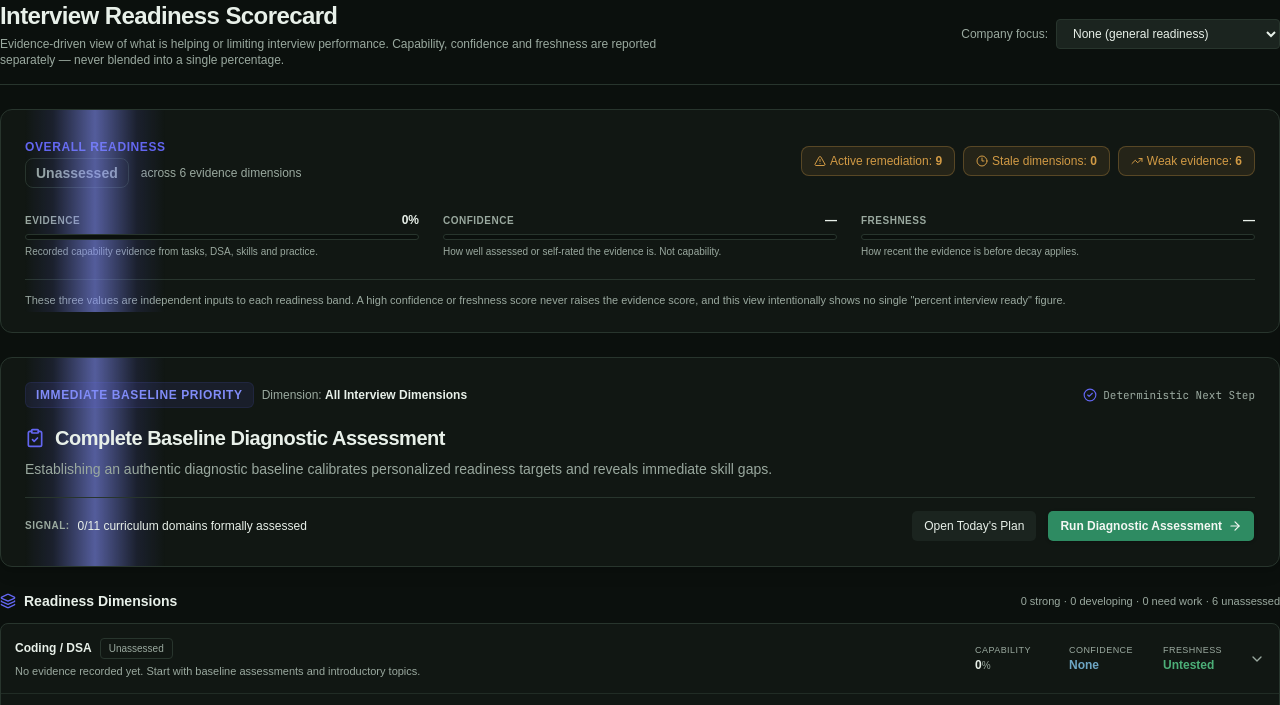
it: InterviewReadinessView › F — company overlay › F2. selecting a company adds required/non-required context, event date and gap
Select "Acme Corp — Software Engineer" in the dropdown with test id "interview-company-select" at (1168, 34), box [1056,19,1279,49]
(page scrolled)
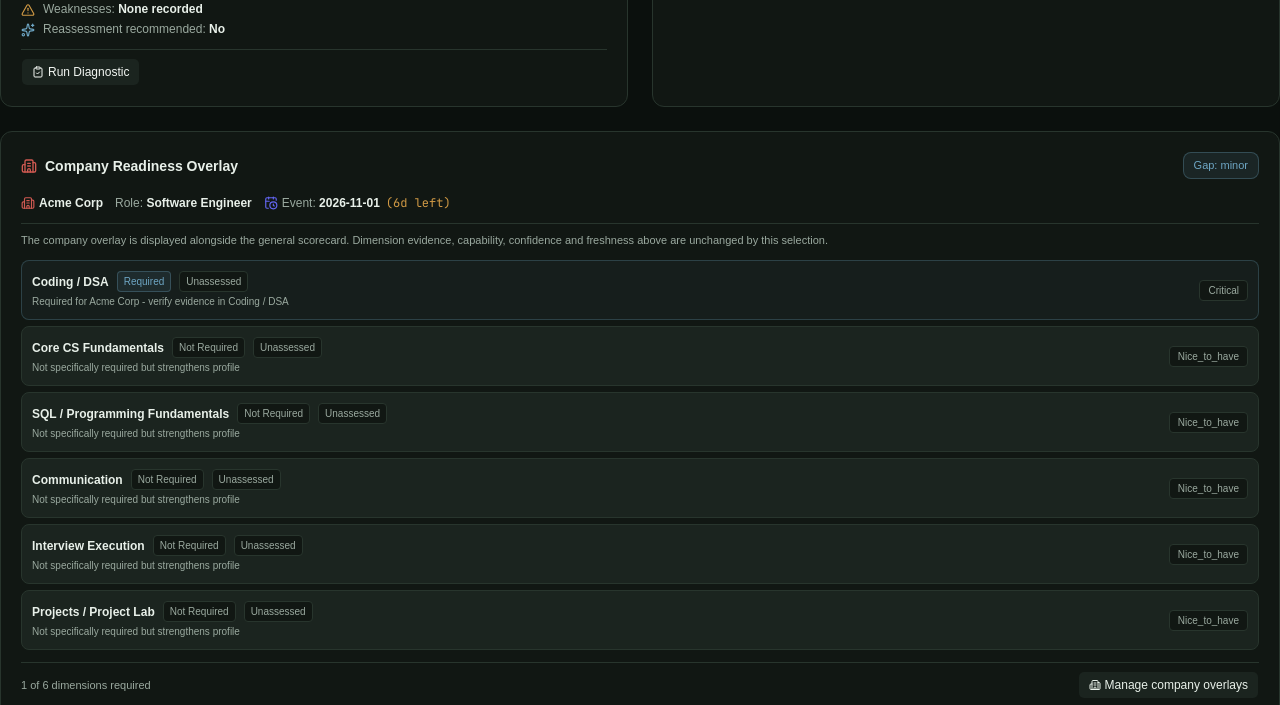
Now the element with test id "company-dimension-list" is shown, box [21,260,1259,650]
Now the element with test id "company-dimension-coding_dsa" shows "Required", box [124,276,164,287]
Now the element with test id "company-dimension-sql_programming" shows "Not required", box [244,408,303,419]
